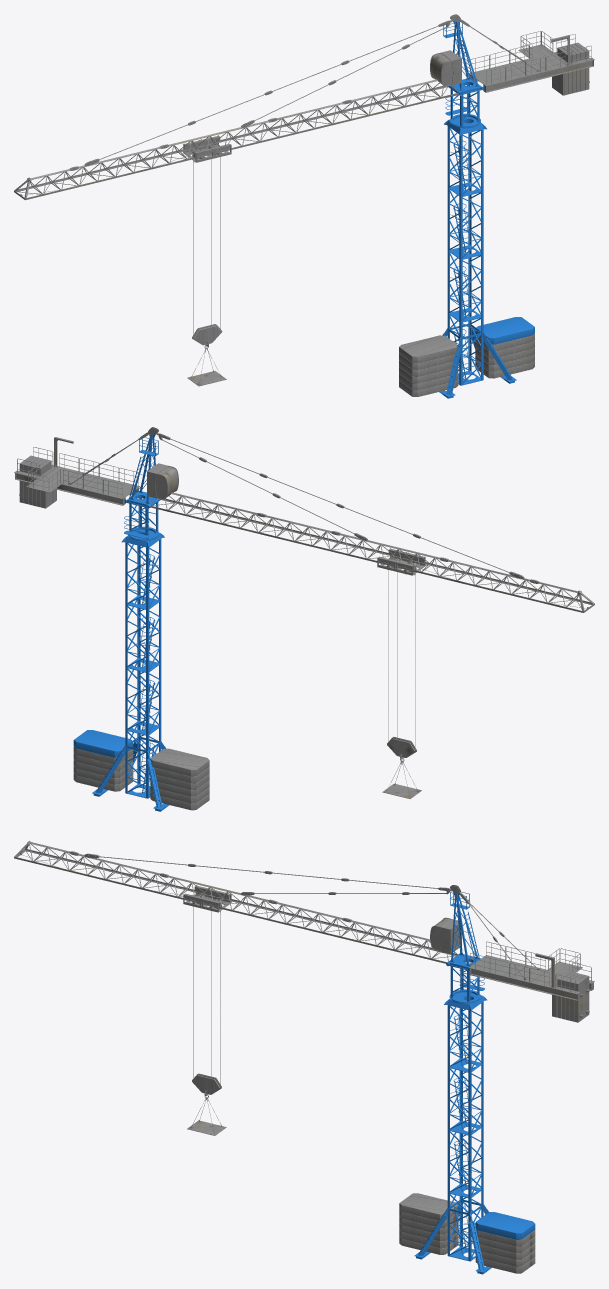
File: Crane.fbx
3 views of the same model, one above another, from view 1: azimuth 30°, elevation 25°; view 2: azimuth 150°, elevation 25°; view 3: azimuth 330°, elevation 25° (orthographic).
Parts seen in each view (by area): view 1: plateforme-haut_plateforme-haut_0, corps-haut-3_corps-haut-3_0, corps-haut-1_corps-haut-1_0, corps-haut-2_corps-haut-1_0, poulie_poulie_0, Box422_beton_0, Box416_beton_0, plateforme_plateforme_0, corps-top_corps-top_0, cabine_cabine_0, haut-jaune_haut-jaune_0, cables-haut_cable-haut_0 (+8 smaller); view 2: plateforme-haut_plateforme-haut_0, corps-haut-3_corps-haut-3_0, corps-haut-1_corps-haut-1_0, corps-haut-2_corps-haut-1_0, poulie_poulie_0, Box422_beton_0, Box416_beton_0, haut-jaune_haut-jaune_0, corps-top_corps-top_0, cabine_cabine_0, cables-haut_cable-haut_0, plateforme_plateforme_0 (+8 smaller); view 3: plateforme-haut_plateforme-haut_0, corps-haut-3_corps-haut-3_0, corps-haut-2_corps-haut-1_0, corps-haut-1_corps-haut-1_0, poulie_poulie_0, corps-top_corps-top_0, Box416_beton_0, haut-jaune_haut-jaune_0, Box422_beton_0, plateforme_plateforme_0, cabine_cabine_0, cables-haut_cable-haut_0 (+9 smaller).
Boxes of the visible parts, left/top/right/bottom form: plateforme-haut_plateforme-haut_0: left=469, top=35, right=594, bottom=86; corps-haut-3_corps-haut-3_0: left=14, top=108, right=318, bottom=199; corps-haut-1_corps-haut-1_0: left=304, top=79, right=458, bottom=129; corps-haut-2_corps-haut-1_0: left=16, top=147, right=169, bottom=199; poulie_poulie_0: left=20, top=135, right=231, bottom=335; Box422_beton_0: left=399, top=335, right=457, bottom=363; Box416_beton_0: left=475, top=317, right=534, bottom=344; plateforme_plateforme_0: left=470, top=60, right=593, bottom=95; corps-top_corps-top_0: left=450, top=21, right=479, bottom=126; cabine_cabine_0: left=430, top=50, right=461, bottom=86; haut-jaune_haut-jaune_0: left=443, top=21, right=486, bottom=135; cables-haut_cable-haut_0: left=99, top=25, right=537, bottom=159; plateforme-haut_plateforme-haut_0: left=14, top=437, right=139, bottom=499; corps-haut-3_corps-haut-3_0: left=290, top=521, right=594, bottom=612; corps-haut-1_corps-haut-1_0: left=150, top=492, right=304, bottom=542; corps-haut-2_corps-haut-1_0: left=438, top=560, right=592, bottom=612; poulie_poulie_0: left=377, top=548, right=588, bottom=748; Box422_beton_0: left=151, top=748, right=209, bottom=776; Box416_beton_0: left=73, top=730, right=133, bottom=757; haut-jaune_haut-jaune_0: left=121, top=436, right=164, bottom=548; corps-top_corps-top_0: left=129, top=434, right=158, bottom=539; cabine_cabine_0: left=147, top=463, right=178, bottom=499; cables-haut_cable-haut_0: left=71, top=438, right=509, bottom=572; plateforme_plateforme_0: left=15, top=473, right=138, bottom=508; plateforme-haut_plateforme-haut_0: left=469, top=953, right=594, bottom=994; corps-haut-3_corps-haut-3_0: left=14, top=843, right=317, bottom=928; corps-haut-2_corps-haut-1_0: left=14, top=842, right=169, bottom=893; corps-haut-1_corps-haut-1_0: left=303, top=912, right=457, bottom=963; poulie_poulie_0: left=20, top=853, right=231, bottom=1085; corps-top_corps-top_0: left=450, top=891, right=479, bottom=1001; Box416_beton_0: left=475, top=1212, right=535, bottom=1239; haut-jaune_haut-jaune_0: left=444, top=891, right=487, bottom=1011; Box422_beton_0: left=399, top=1193, right=458, bottom=1220; plateforme_plateforme_0: left=470, top=968, right=593, bottom=1017; cabine_cabine_0: left=430, top=917, right=461, bottom=954; cables-haut_cable-haut_0: left=99, top=856, right=537, bottom=978.
Size of the model in its own units: 14214 by 8783 by 1608.
Materials: 15 (14 with a texture image).
